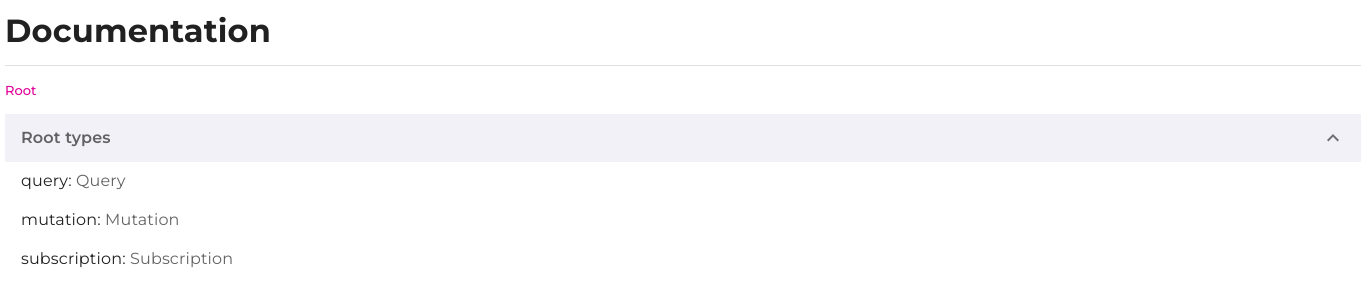
Test: Tests for SchemaDoc component › should render inner types on root field click
Click the text "Query": (101, 181) [76, 171, 126, 190]
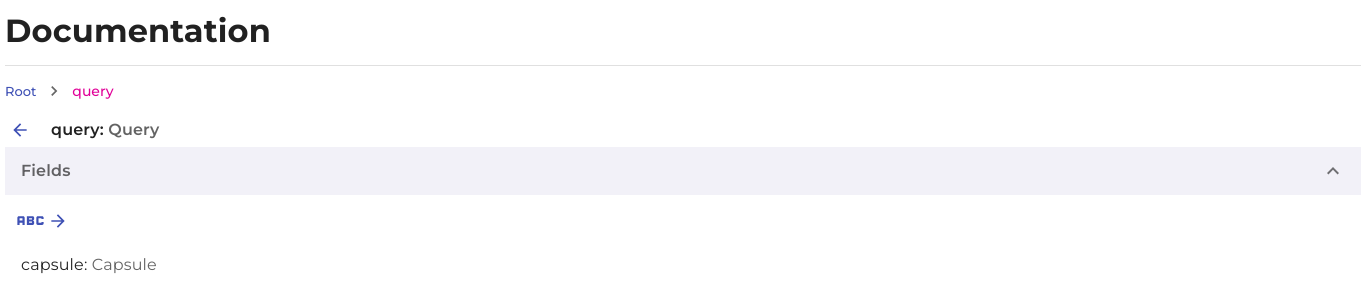
Check: the text "Capsule" is shown, box [92, 255, 157, 274]
